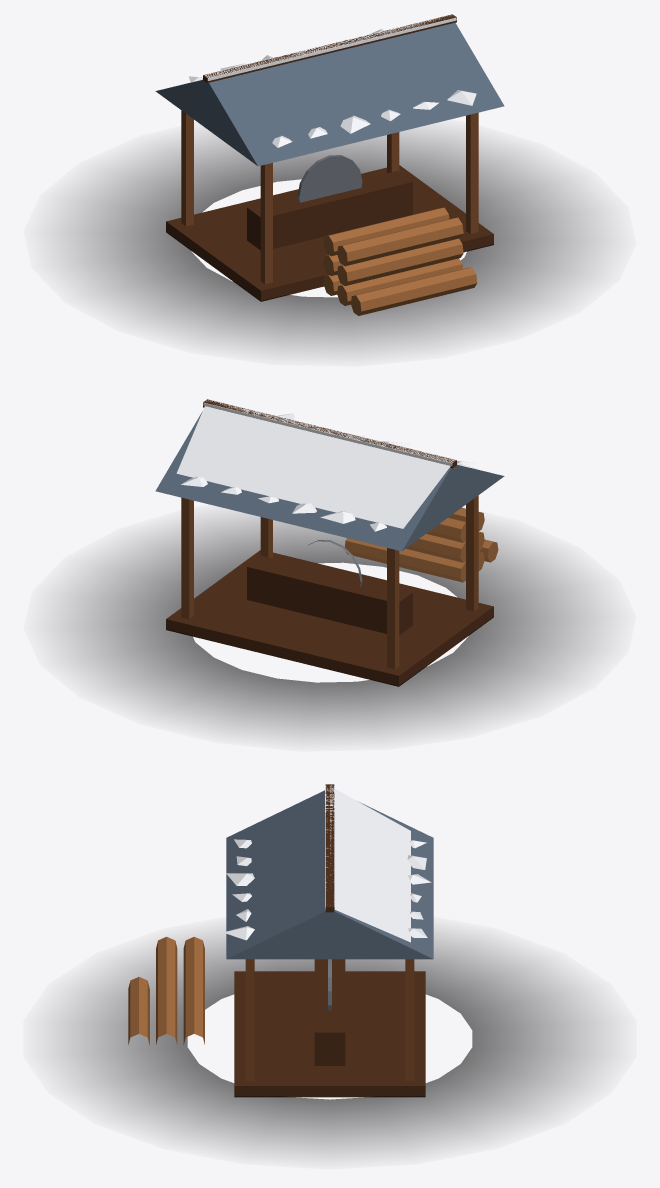
The model's file is sawmill_t2.glb.
3 views of the same model, one above another, from view 1: azimuth 30°, elevation 25°; view 2: azimuth 150°, elevation 25°; view 3: azimuth 270°, elevation 25° (orthographic).
Visible parts, largest first — view 1: sawmill_t2; view 2: sawmill_t2; view 3: sawmill_t2.
Part boxes in pixels (<box>): sawmill_t2: <box>62,14,597,350</box>; sawmill_t2: <box>62,399,597,735</box>; sawmill_t2: <box>61,784,598,1152</box>.
Size of the model in its own units: 10.4 by 3.49 by 10.29.
